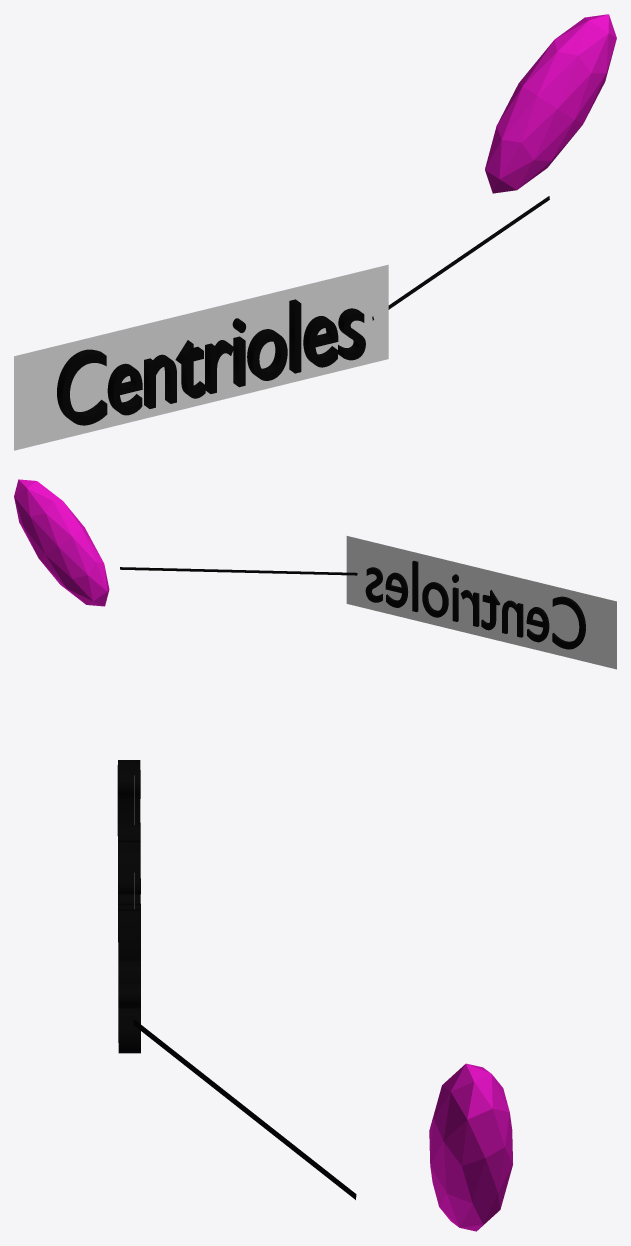
Rendered from centrioles.gltf.
3 renders of one model, top to bottom at view 1: azimuth 30°, elevation 25°; view 2: azimuth 150°, elevation 25°; view 3: azimuth 270°, elevation 25°, orthographic. The views are drawn at different scales.
Parts seen in each view (by area): view 1: Plane.009, Icosphere.002, Text.005, Plane.007; view 2: Plane.009, Icosphere.002, Text.005, Plane.007; view 3: Icosphere.002, Text.005, Plane.007.
Part boxes in pixels (x1,y1,x2,y2): Plane.009: [14, 264, 388, 450]; Icosphere.002: [485, 14, 616, 193]; Text.005: [57, 299, 365, 425]; Plane.007: [372, 196, 549, 320]; Plane.009: [346, 536, 616, 669]; Icosphere.002: [14, 479, 109, 606]; Text.005: [365, 561, 585, 649]; Plane.007: [120, 567, 357, 575]; Icosphere.002: [429, 1063, 512, 1231]; Text.005: [117, 760, 140, 1053]; Plane.007: [133, 1019, 356, 1199].
Bounding box in the file's own units: 1.93 × 0.4568 × 0.6394.
